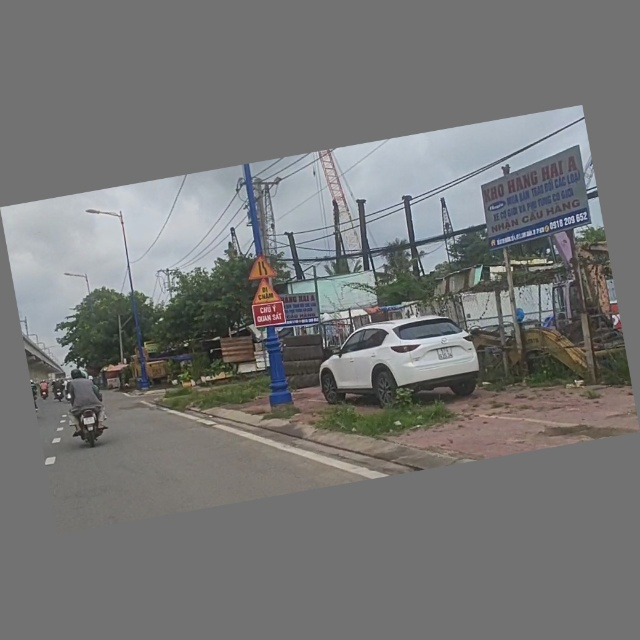W.203c: (244, 252, 278, 281)
W.245a: (248, 276, 284, 307)
